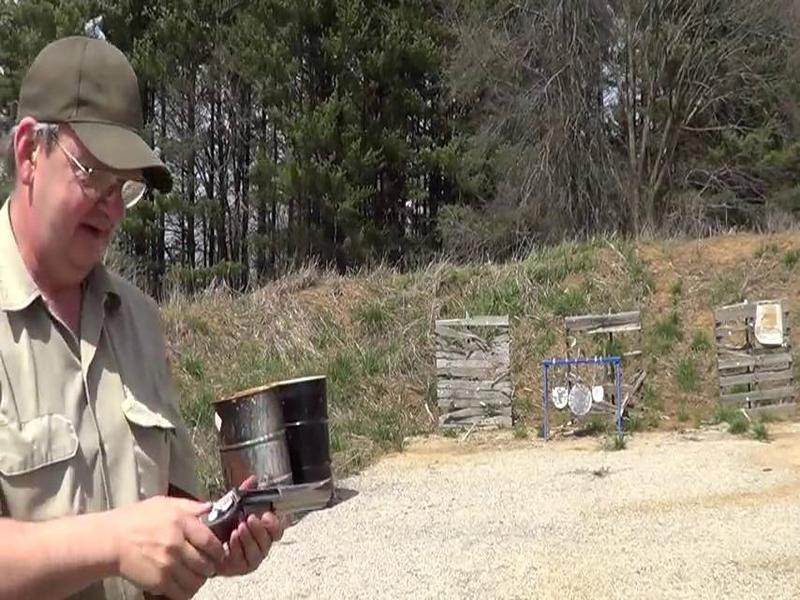Revolver: (182, 478, 358, 566)
